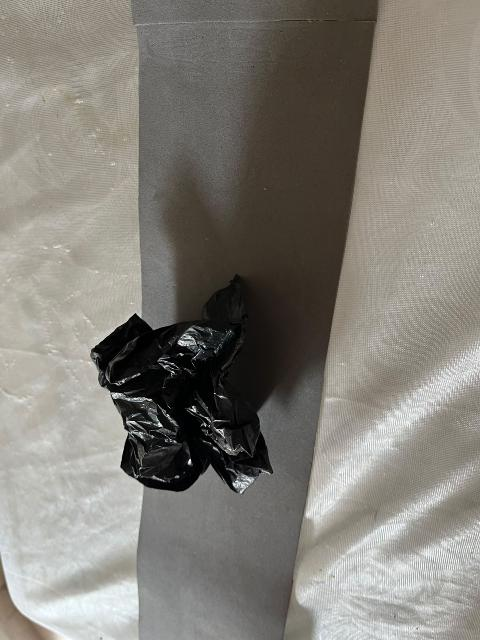LDPE: (72, 248, 312, 513)
